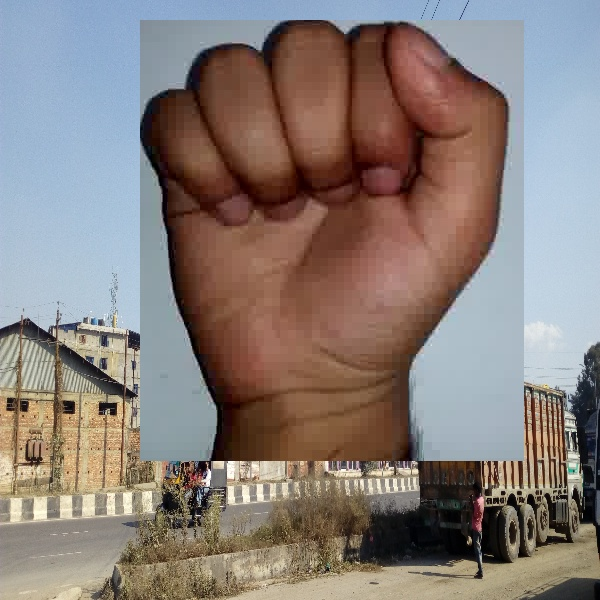A: (140, 20, 524, 461)
